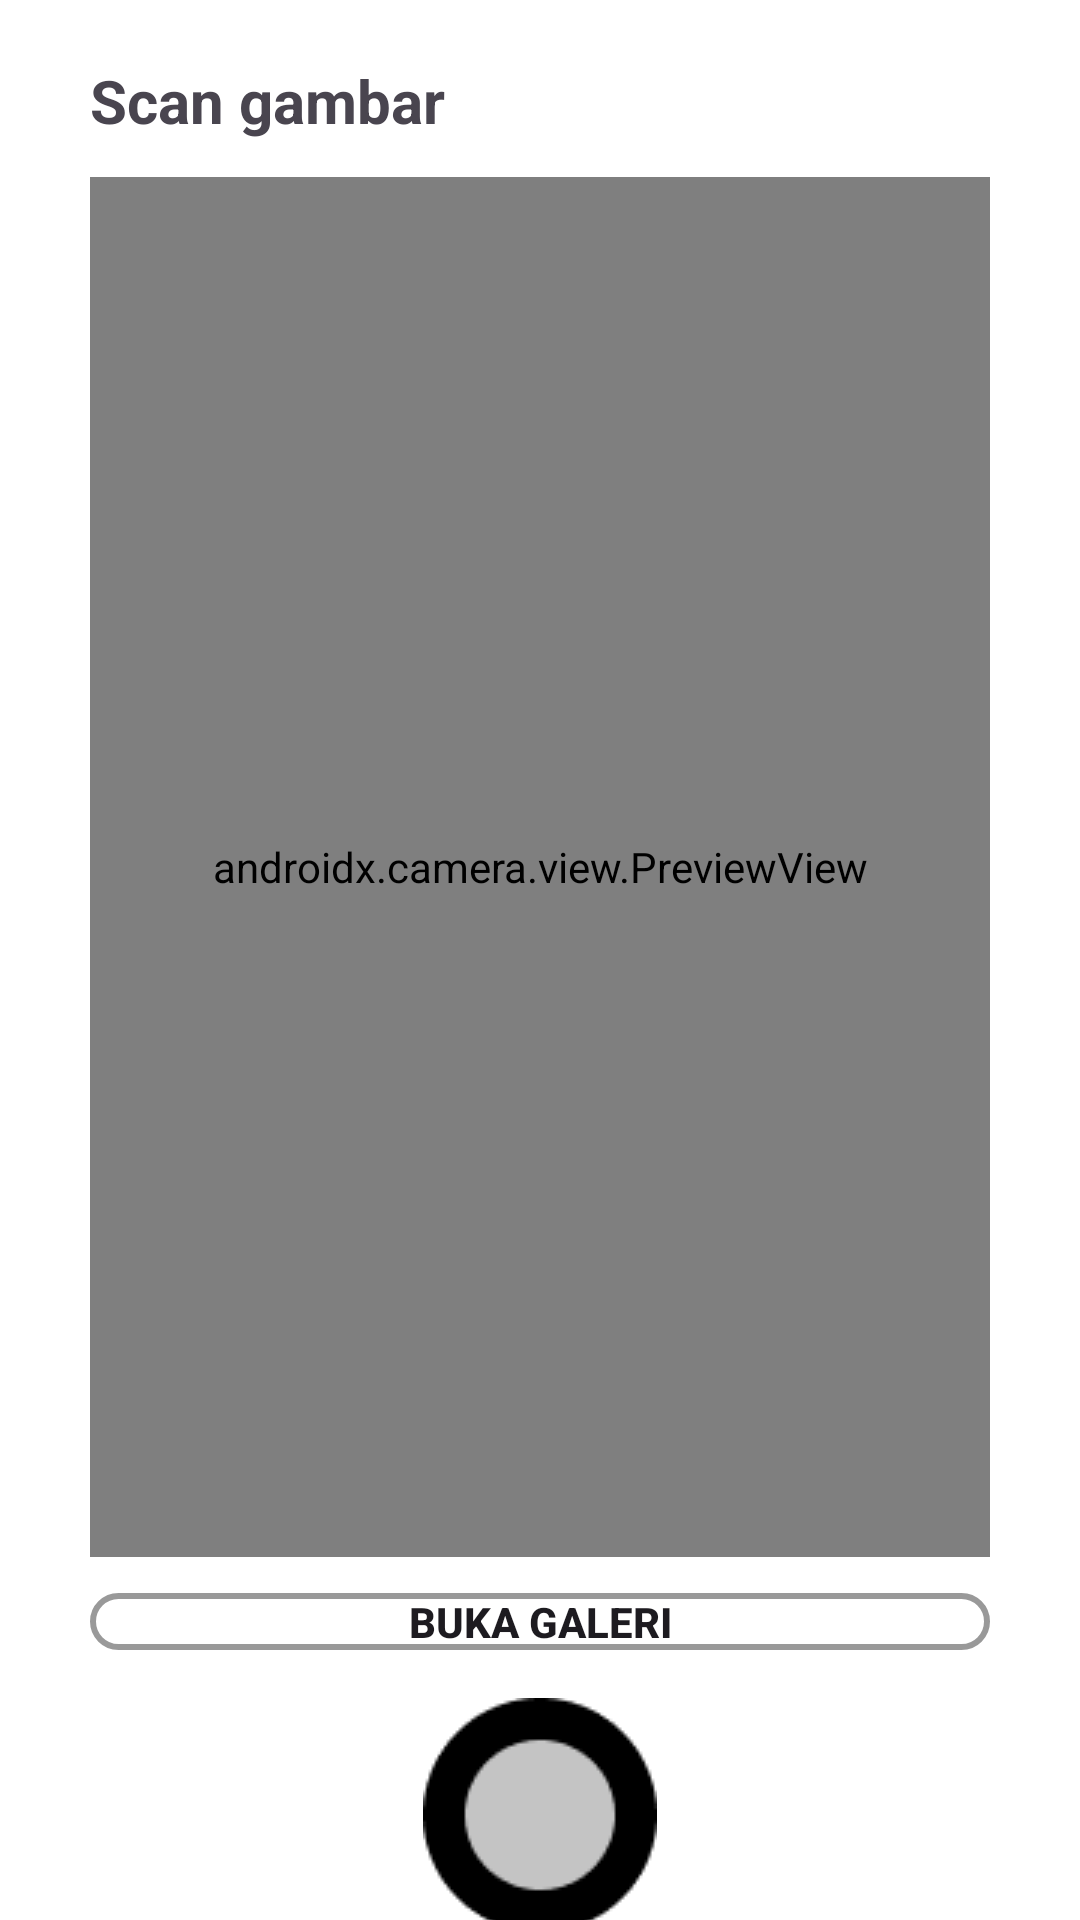

Locate icon controls on the screen. Image size 1080px×1920px, boxes as (x1, y1, x2, y2).
capture: (423, 1698, 657, 1920)
